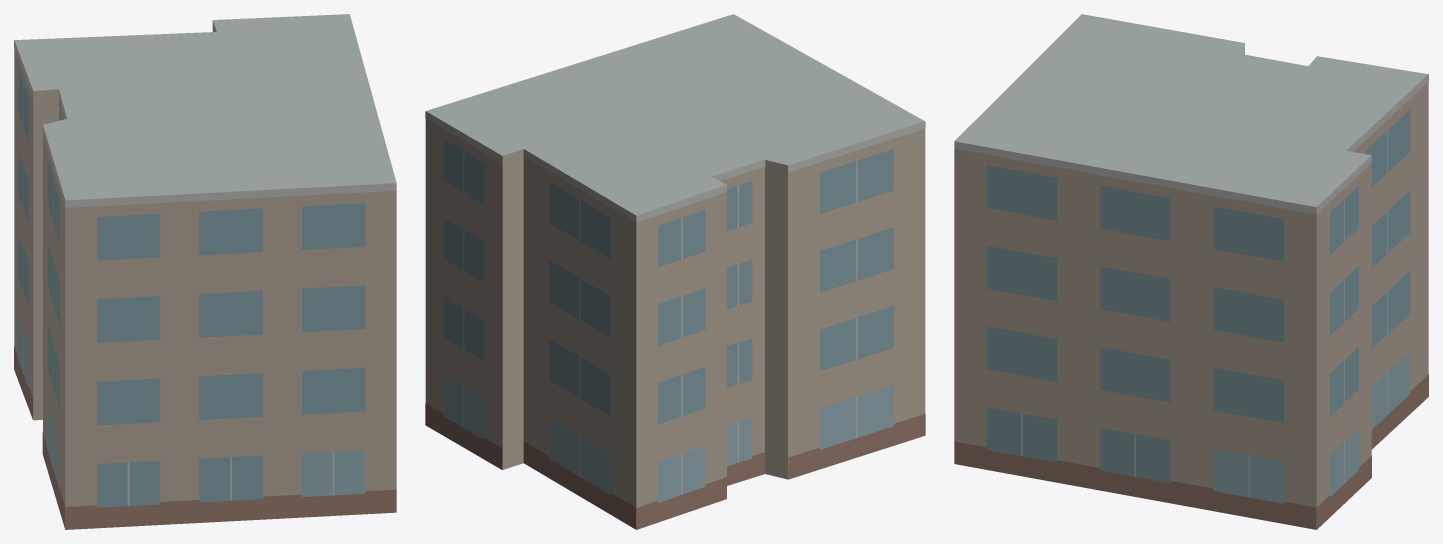
Rendered from survey-upis-32565820.glb.
3 renders of one model, left to right at view 1: azimuth 30°, elevation 25°; view 2: azimuth 150°, elevation 25°; view 3: azimuth 270°, elevation 25°, orthographic. The views are drawn at different scales.
Visible parts, largest first — view 1: survey-upis-32565820.tmp; view 2: survey-upis-32565820.tmp; view 3: survey-upis-32565820.tmp.
Boxes of the visible parts, bbox=[...] form: survey-upis-32565820.tmp: bbox=[14, 14, 396, 529]; survey-upis-32565820.tmp: bbox=[425, 14, 925, 529]; survey-upis-32565820.tmp: bbox=[954, 14, 1428, 529].
Bounding box in the file's own units: 13.62 × 10.6 × 14.13.
